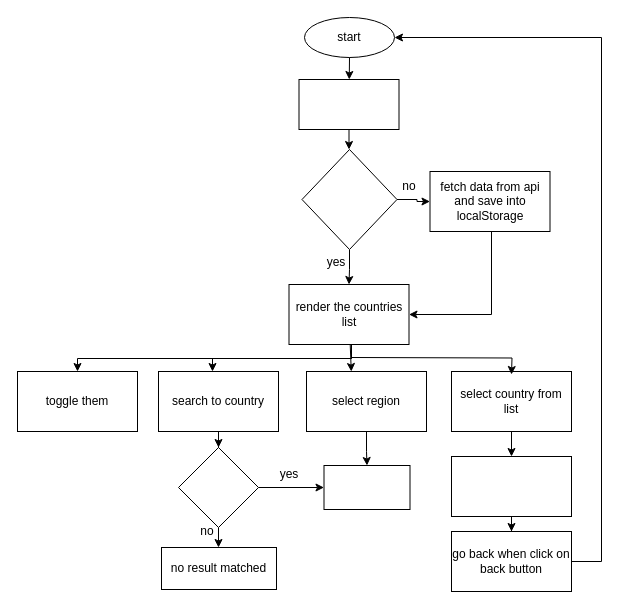
Some shapes in this 627 by 609 pixel diagram are drawn without their labels. The centre of each missing label's shape, as x and y in pixels:
fetch data from localStorage: (348,104)
go to country page details: (511,486)
is found?: (218,487)
is there data ?: (349,199)
render found list: (366,487)
